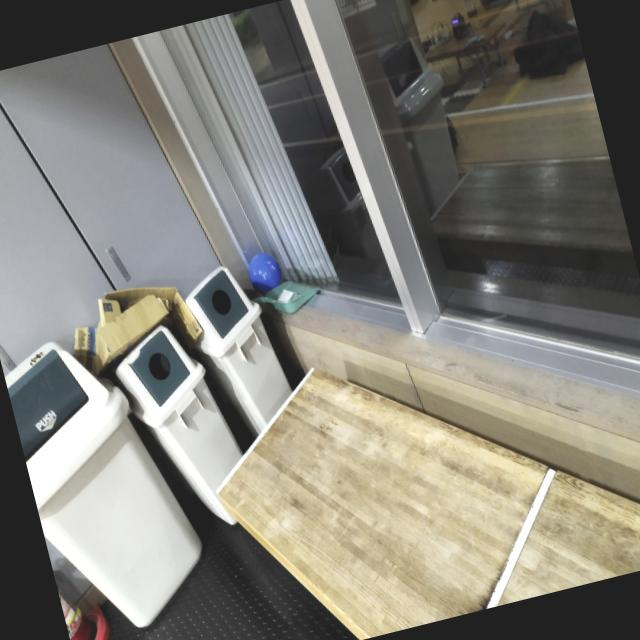blue_ball: (240, 244, 286, 302)
